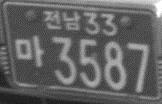3: (50, 35, 76, 85), (82, 10, 100, 36), (99, 13, 118, 36)
5: (78, 37, 102, 88)
7: (126, 41, 150, 94)
8: (102, 40, 127, 92)
마: (13, 34, 46, 69)
전남_O: (41, 10, 82, 32)
